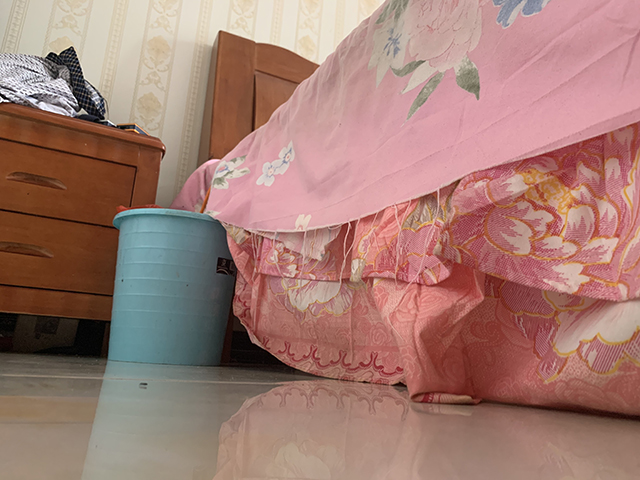bed: (169, 1, 640, 421)
cabinet: (1, 101, 168, 361)
trashcan: (106, 207, 237, 366)
